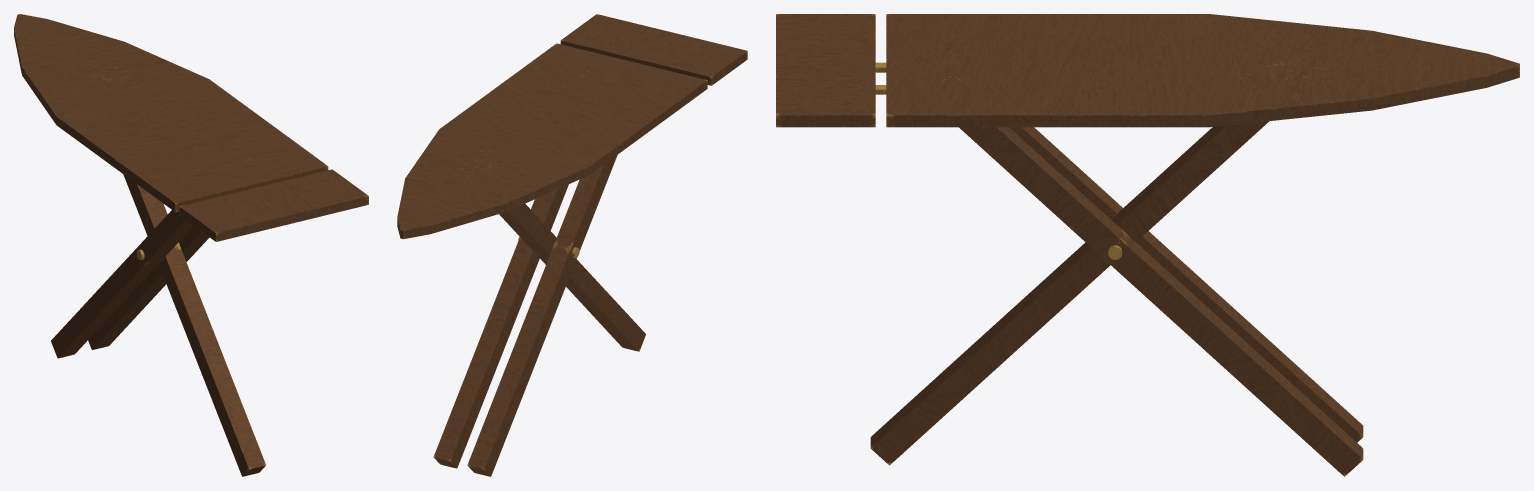
Rendered from Kabayo1.fbx.
3 renders of one model, left to right at view 1: azimuth 30°, elevation 25°; view 2: azimuth 150°, elevation 25°; view 3: azimuth 270°, elevation 25°, orthographic. The views are drawn at different scales.
Visible parts, largest first — view 1: Iron Horse.001; view 2: Iron Horse.001; view 3: Iron Horse.001.
Boxes of the visible parts, bbox=[...] form: Iron Horse.001: bbox=[14, 14, 368, 476]; Iron Horse.001: bbox=[397, 14, 747, 476]; Iron Horse.001: bbox=[776, 14, 1519, 476].
Bounding box in the file's own units: 94.59 × 172 × 293.
Materials: 1 (1 with a texture image).
